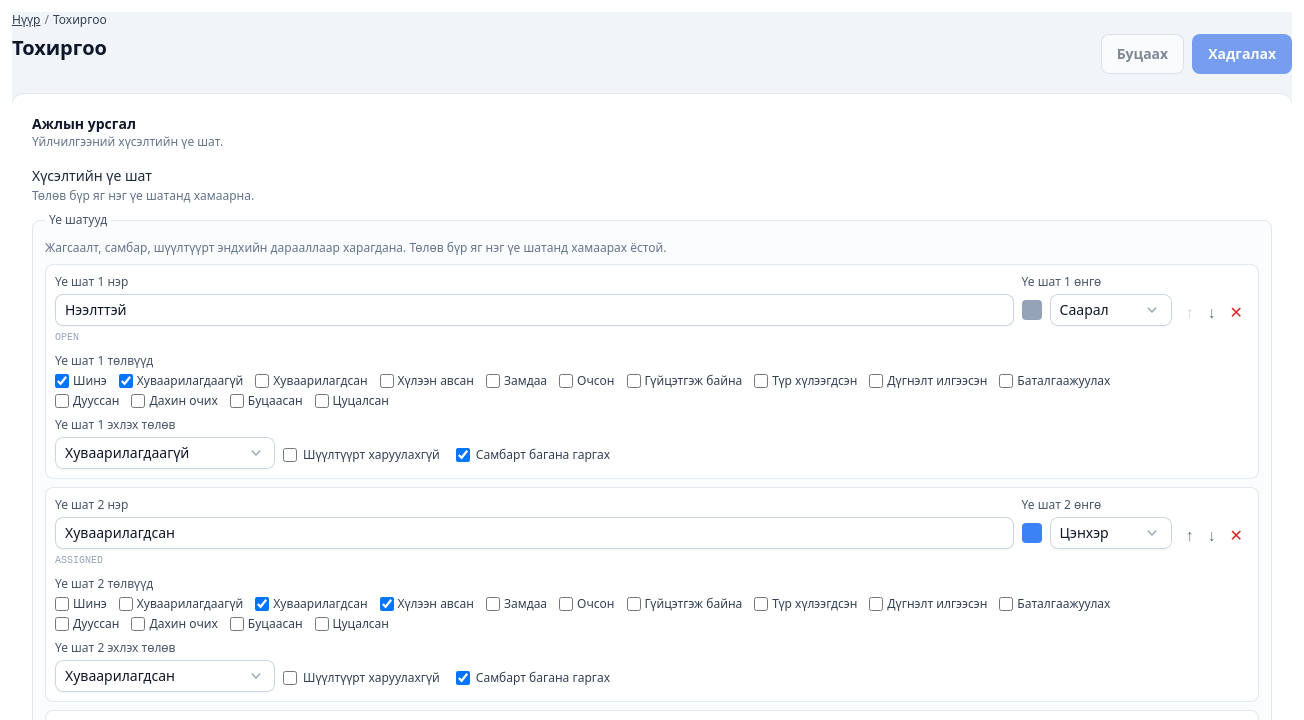
Scenario: SettingsPage stages › reports a status that no longer belongs to any stage
Click the checkbox named "Үе шат 1: Шинэ" at point(62, 381), box left=55, top=374, right=69, bottom=388
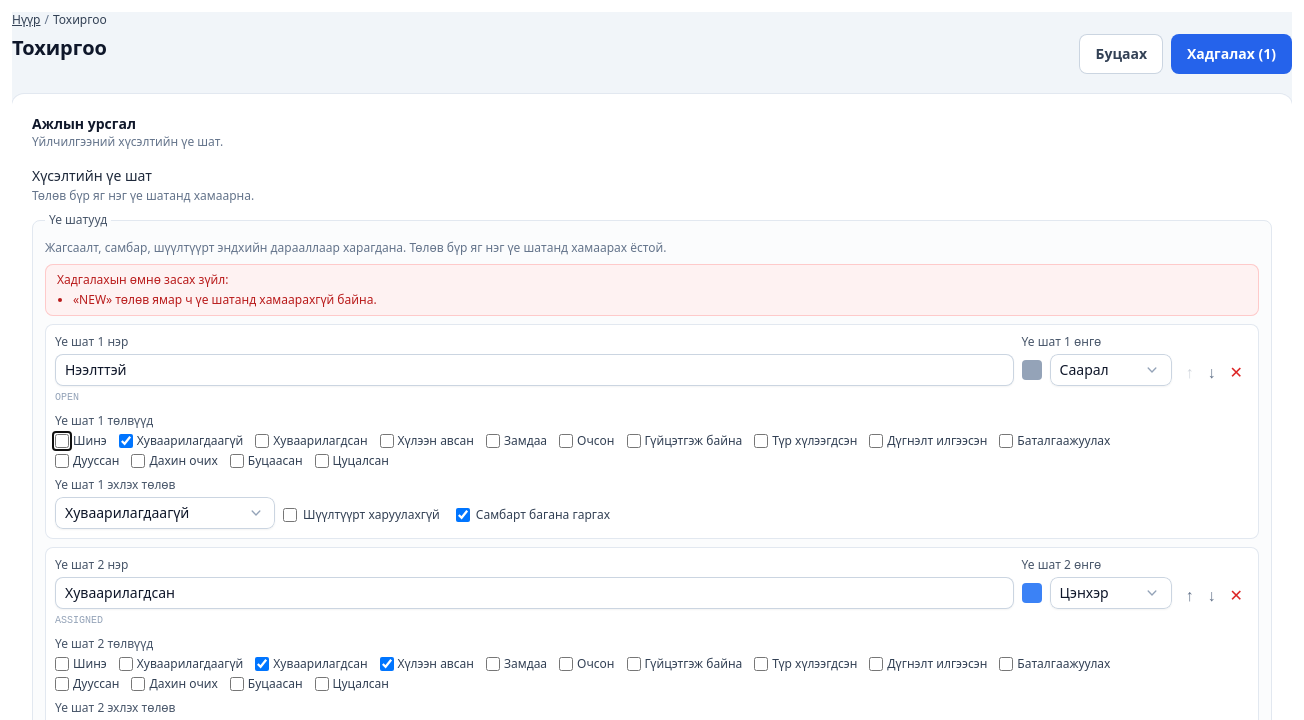
Check: the list item "«NEW» төлөв ямар ч үе шатанд хамаарахгүй байна." is shown, box left=73, top=291, right=377, bottom=308
